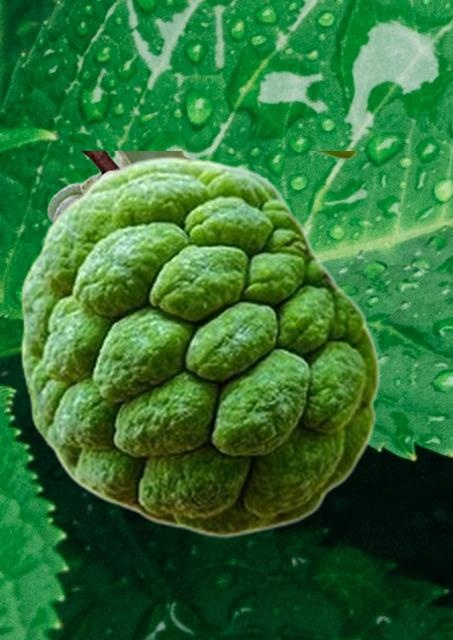atis: (20, 155, 380, 537), (46, 151, 356, 223)
